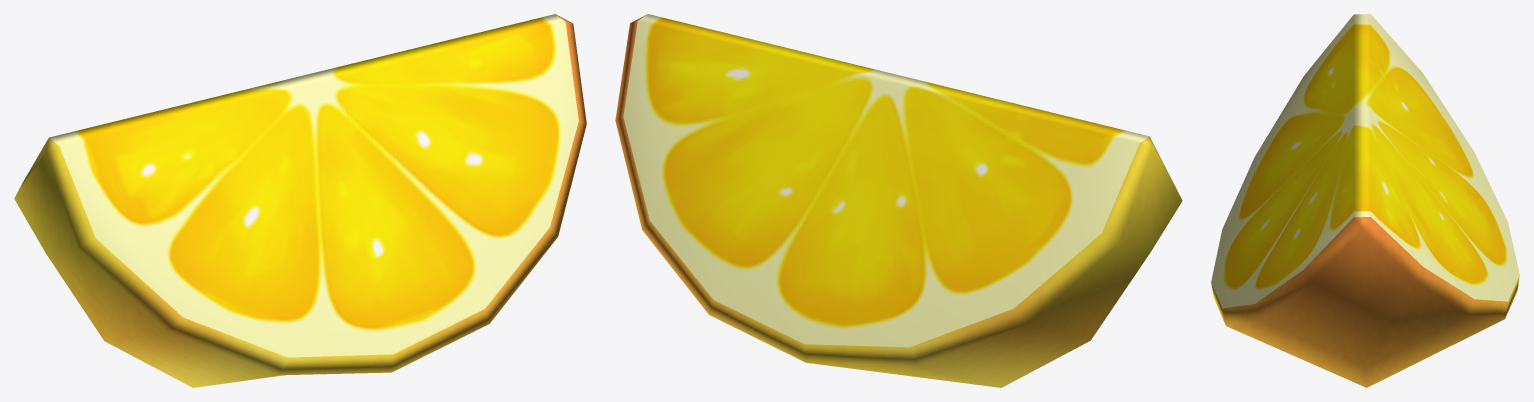
The model's file is Lemon_Quarter.fbx.
3 views of the same model, side by side, from view 1: azimuth 30°, elevation 25°; view 2: azimuth 150°, elevation 25°; view 3: azimuth 270°, elevation 25° (orthographic). The views are drawn at different scales.
Visible parts, largest first — view 1: Lemon_Quarter; view 2: Lemon_Quarter; view 3: Lemon_Quarter.
Boxes of the visible parts, box(x1,y1,x2,y2) form: Lemon_Quarter: box(14, 14, 586, 387); Lemon_Quarter: box(615, 14, 1182, 387); Lemon_Quarter: box(1211, 14, 1519, 387).
Bounding box in the file's own units: 24.57 × 13.13 × 15.18.
